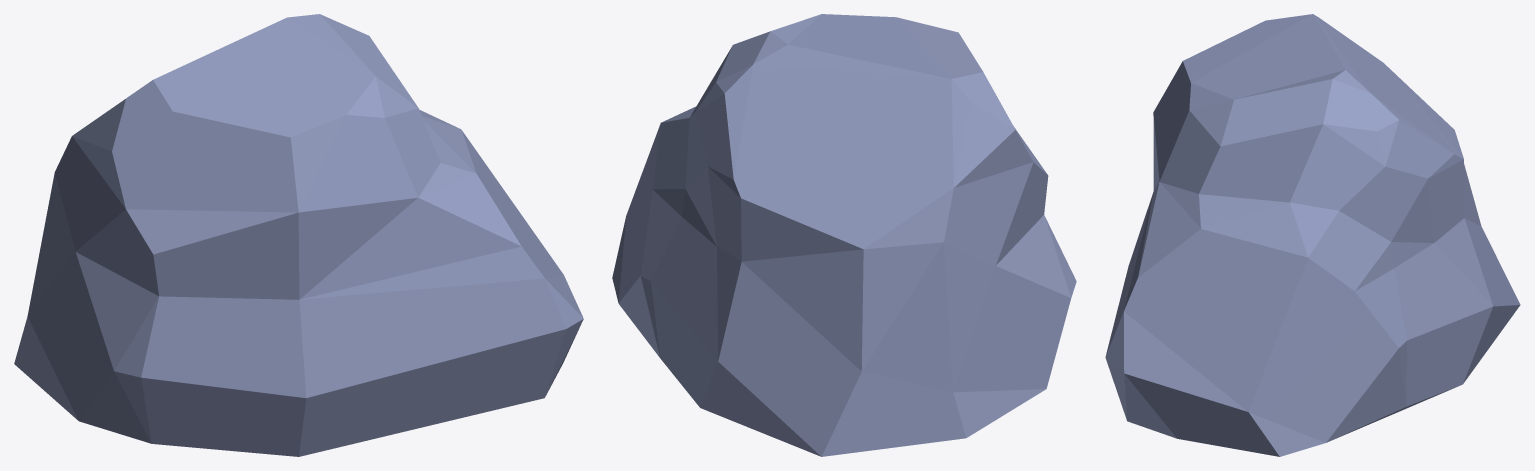
The model's file is Rock_10.fbx.
3 views of the same model, side by side, from view 1: azimuth 30°, elevation 25°; view 2: azimuth 150°, elevation 25°; view 3: azimuth 270°, elevation 25° (orthographic). The views are drawn at different scales.
Visible parts, largest first — view 1: Rock_10; view 2: Rock_10; view 3: Rock_10.
Part boxes in pixels (x1,y1,x2,y2): Rock_10: [14, 14, 583, 456]; Rock_10: [612, 14, 1076, 456]; Rock_10: [1105, 14, 1520, 456].
Bounding box in the file's own units: 3.11 × 2.19 × 2.7.
